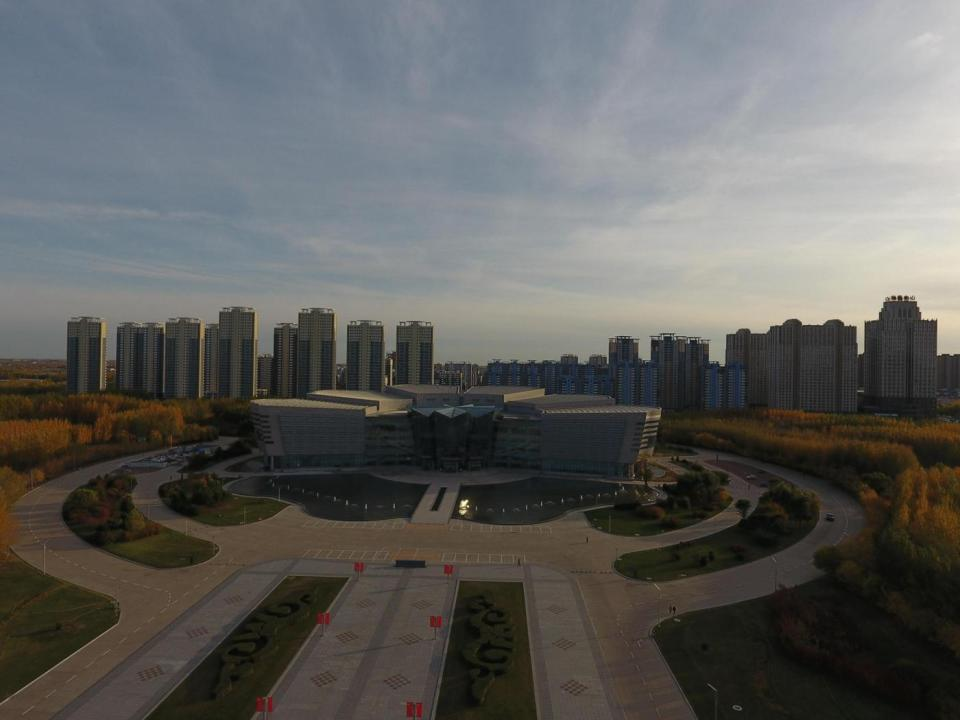car: (826, 512, 834, 521), (745, 475, 757, 480)
